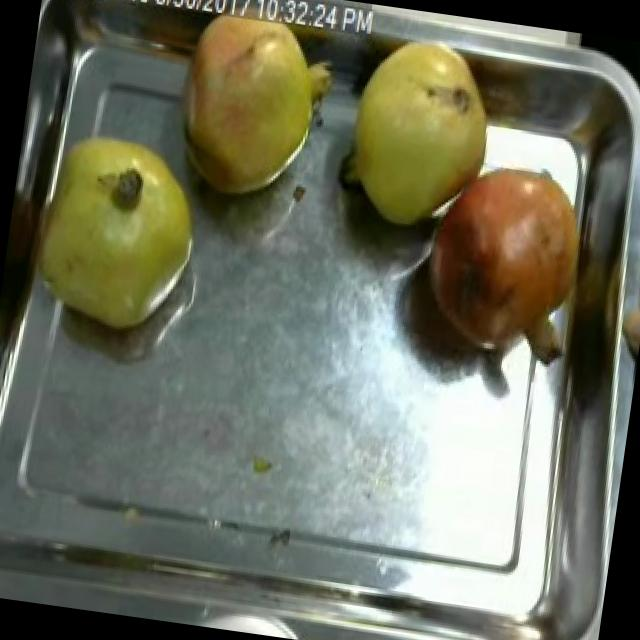fruit: (397, 140, 608, 386), (16, 115, 222, 352), (325, 17, 519, 252), (155, 0, 353, 223)
